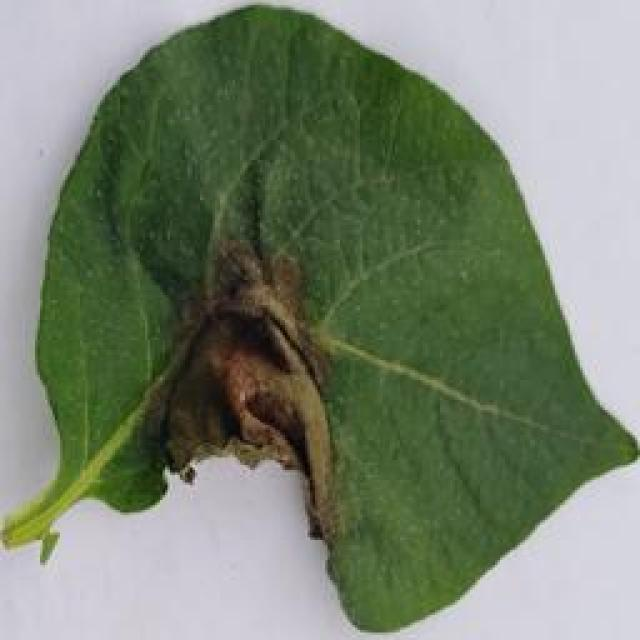Potato_Late_Blight: (6, 6, 624, 628)
